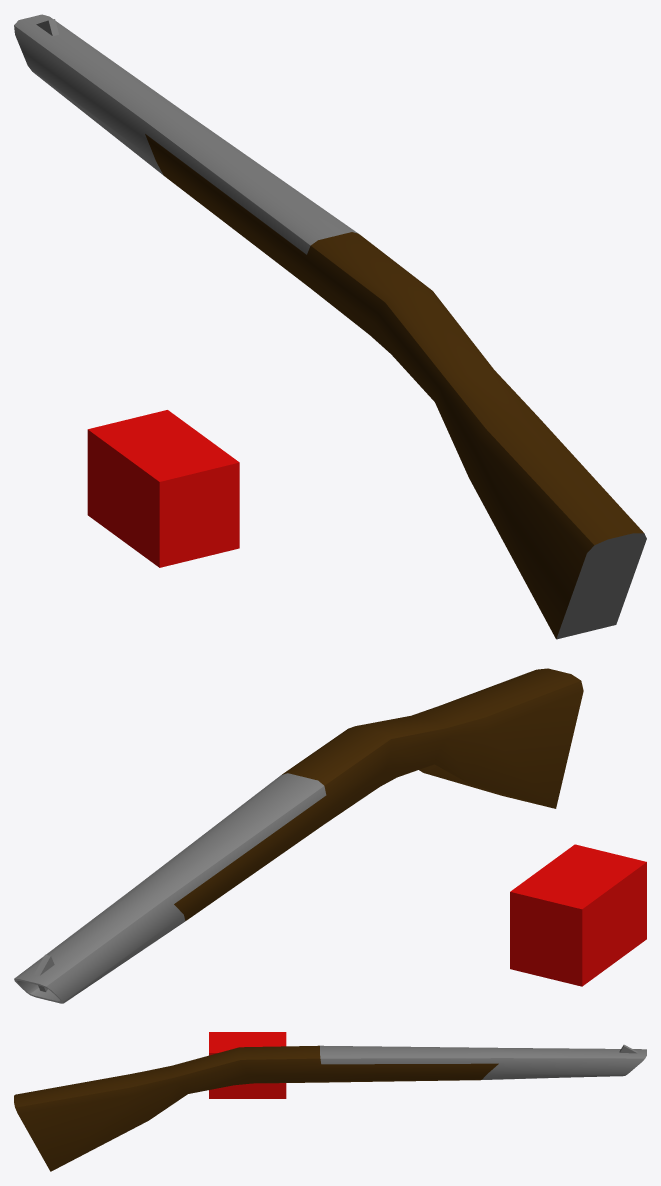
Rendered from lowpolyShotgun.fbx.
3 renders of one model, top to bottom at view 1: azimuth 30°, elevation 25°; view 2: azimuth 150°, elevation 25°; view 3: azimuth 270°, elevation 25°, orthographic. The views are drawn at different scales.
Visible parts, largest first — view 1: Shotgun, ShotgunAmmo; view 2: Shotgun, ShotgunAmmo; view 3: Shotgun, ShotgunAmmo.
Boxes of the visible parts, left/top/right/bottom form: Shotgun: left=14, top=14, right=646, bottom=639; ShotgunAmmo: left=87, top=410, right=239, bottom=567; Shotgun: left=14, top=668, right=583, bottom=1003; ShotgunAmmo: left=510, top=844, right=646, bottom=986; Shotgun: left=14, top=1044, right=646, bottom=1171; ShotgunAmmo: left=209, top=1032, right=286, bottom=1098.
Bounding box in the file's own units: 354 × 242 × 1167.
